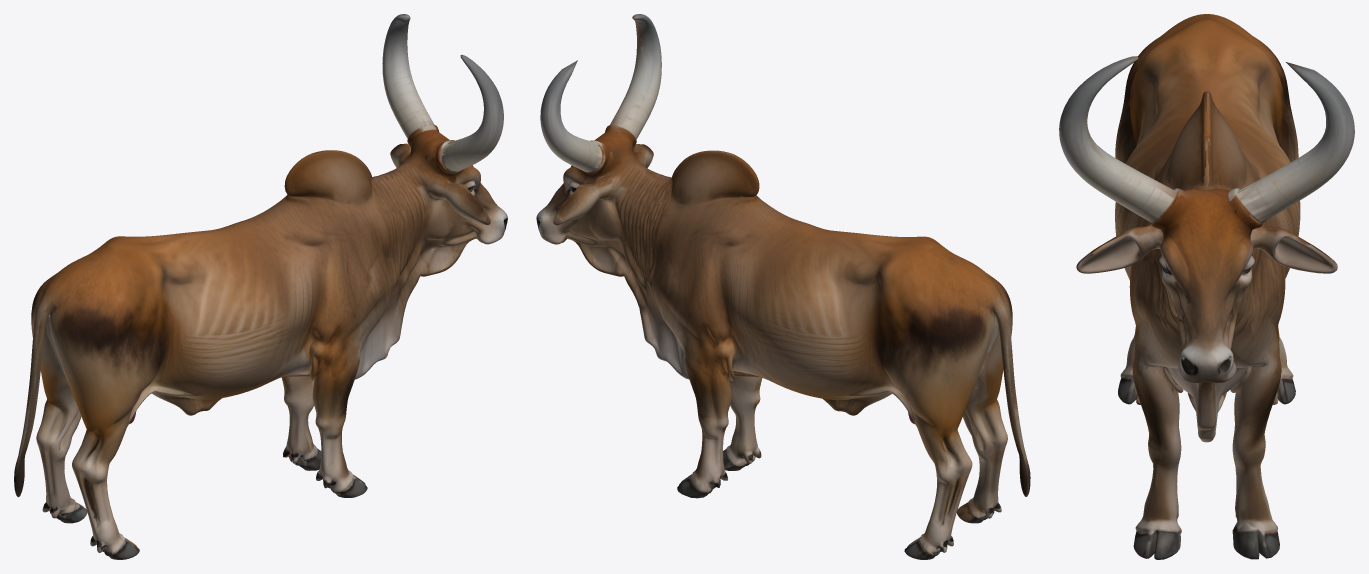
The model's file is Cow V1.fbx.
3 views of the same model, side by side, from view 1: azimuth 30°, elevation 25°; view 2: azimuth 150°, elevation 25°; view 3: azimuth 270°, elevation 25° (orthographic). The views are drawn at different scales.
Visible parts, largest first — view 1: texture_pbr_v128; view 2: texture_pbr_v128; view 3: texture_pbr_v128.
Part boxes in pixels (x1=…): texture_pbr_v128: x1=14, y1=14, x2=507, y2=559; texture_pbr_v128: x1=536, y1=14, x2=1030, y2=559; texture_pbr_v128: x1=1059, y1=14, x2=1354, y2=559.
Size of the model in its own units: 104 by 84.46 by 40.1.
1 material, 1 textured.
